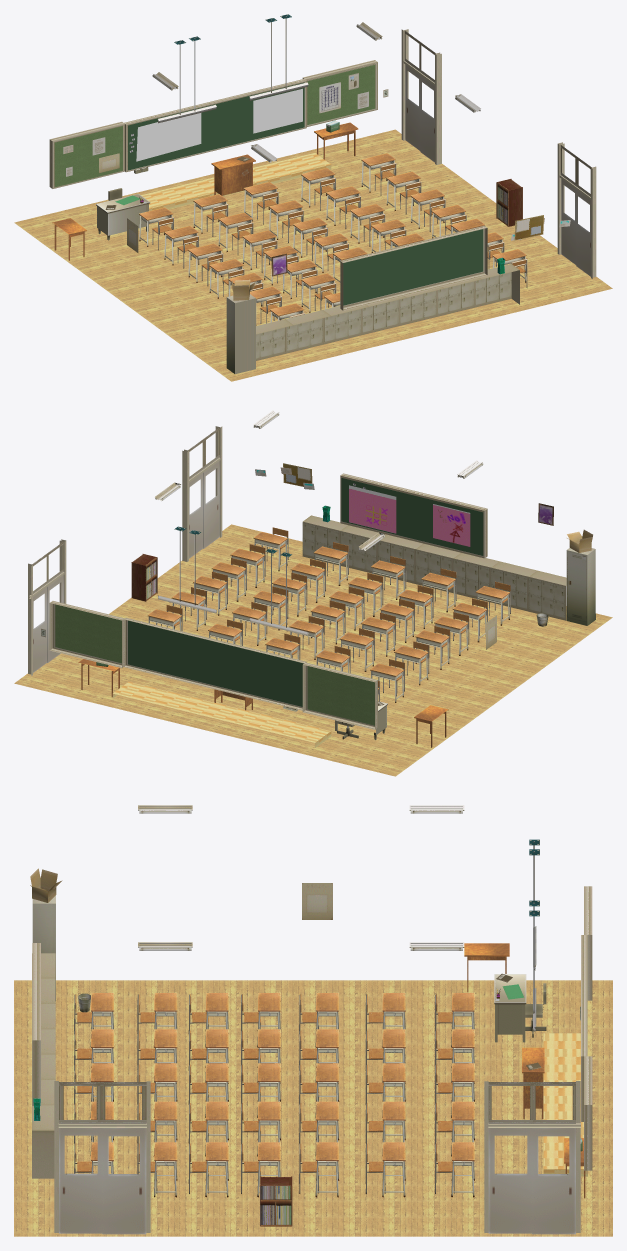
Rendered from our_classroom.fbx.
3 views of the same model, one above another, from view 1: azimuth 30°, elevation 25°; view 2: azimuth 150°, elevation 25°; view 3: azimuth 270°, elevation 25° (orthographic). The views are drawn at different scales.
Visible parts, largest first — view 1: floor, ALL_Desk_Chair, store_shelf2, store_shelf, back_blackboard, doorB, doorA, store_shelf1, store1, store_shelf9, store_shelf10, teacher_deskB (+7 smaller); view 2: floor, ALL_Desk_Chair, store_shelf2, store_shelf, back_blackboard, doorA, store_shelf1, doorB, store1, backboard9, backboard10, book_shelf (+4 smaller); view 3: floor, ALL_Desk_Chair, doorA, doorB, store_shelf, store_shelf1, store_shelf2, teacher_deskB, book_shelf, back_blackboard, store1, picture2 (+5 smaller).
Boxes of the visible parts, bbox=[...] form: floor: bbox=[14, 129, 612, 381]; ALL_Desk_Chair: bbox=[139, 153, 527, 325]; store_shelf2: bbox=[49, 60, 377, 188]; store_shelf: bbox=[256, 264, 519, 360]; back_blackboard: bbox=[340, 225, 487, 310]; doorB: bbox=[401, 29, 441, 164]; doorA: bbox=[557, 142, 596, 278]; store_shelf1: bbox=[141, 153, 331, 210]; store1: bbox=[226, 294, 255, 373]; store_shelf9: bbox=[136, 113, 201, 161]; store_shelf10: bbox=[253, 88, 302, 133]; teacher_deskB: bbox=[96, 188, 150, 240]; floor: bbox=[14, 524, 612, 776]; ALL_Desk_Chair: bbox=[147, 527, 510, 702]; store_shelf2: bbox=[49, 601, 377, 729]; store_shelf: bbox=[302, 515, 566, 620]; back_blackboard: bbox=[340, 473, 487, 558]; doorA: bbox=[182, 426, 222, 561]; store_shelf1: bbox=[112, 682, 331, 747]; doorB: bbox=[28, 539, 66, 675]; store1: bbox=[566, 548, 595, 625]; backboard9: bbox=[349, 485, 396, 533]; backboard10: bbox=[433, 504, 470, 546]; book_shelf: bbox=[131, 554, 157, 601]; floor: bbox=[14, 980, 612, 1236]; ALL_Desk_Chair: bbox=[74, 992, 474, 1197]; doorA: bbox=[54, 1081, 150, 1234]; doorB: bbox=[484, 1081, 580, 1234]; store_shelf: bbox=[32, 953, 55, 1178]; store_shelf1: bbox=[543, 1033, 587, 1176]; store_shelf2: bbox=[581, 886, 592, 1170]; teacher_deskB: bbox=[494, 974, 546, 1042]; book_shelf: bbox=[260, 1176, 292, 1226]; back_blackboard: bbox=[32, 943, 40, 1105]; store1: bbox=[32, 895, 55, 1000]; picture2: bbox=[302, 883, 332, 919].
Size of the model in its own units: 1756 by 741 by 1733.
32 materials, 32 textured.
